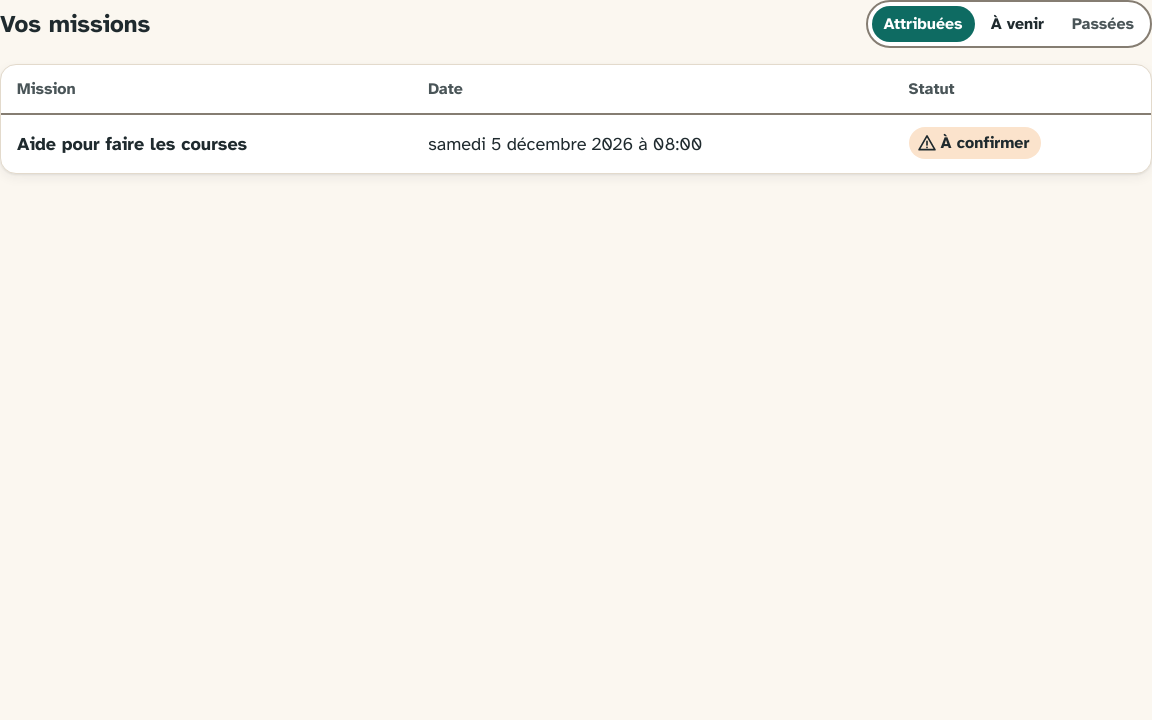
PublishedMissionList › confirms a mission once its slot is over
This screenshot has width=1152, height=720.
expect the table shows "À confirmer": met, box [941,133,1029,153]
Step 1. Click the row that starts with "Aide pour faire les courses" → click(576, 144), box [1,115,1151,173]
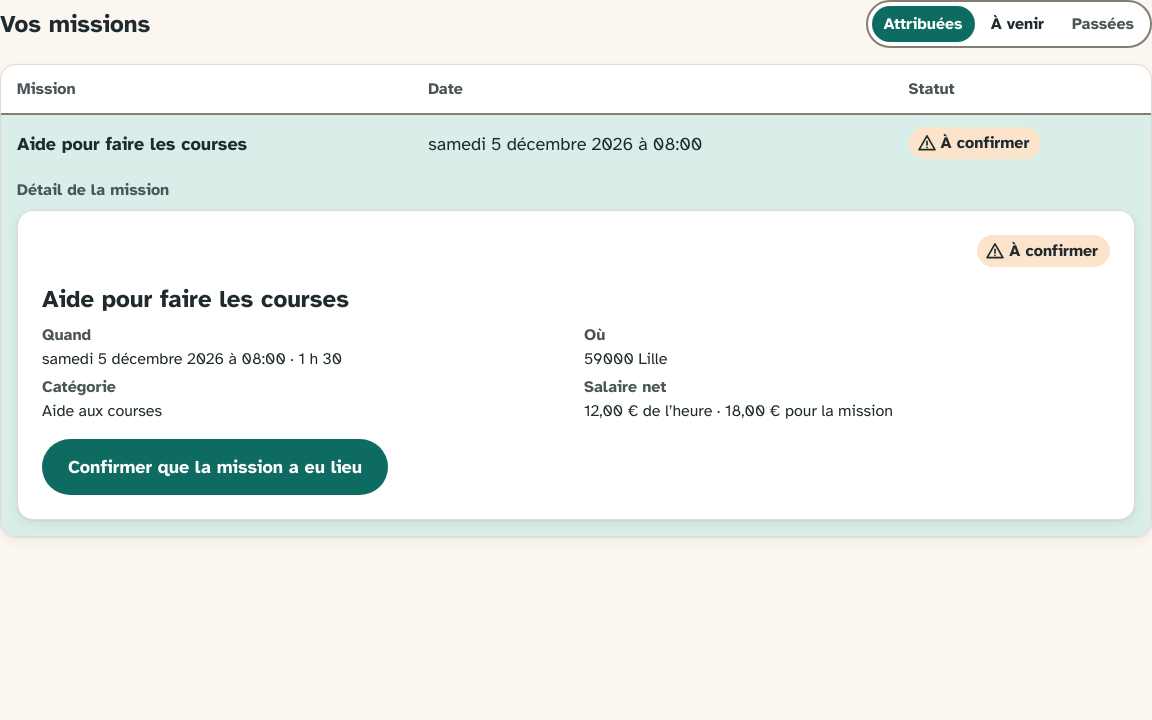
Step 2. Click the button "Confirmer que la mission a eu lieu" → click(215, 467), box [42,439,388,495]
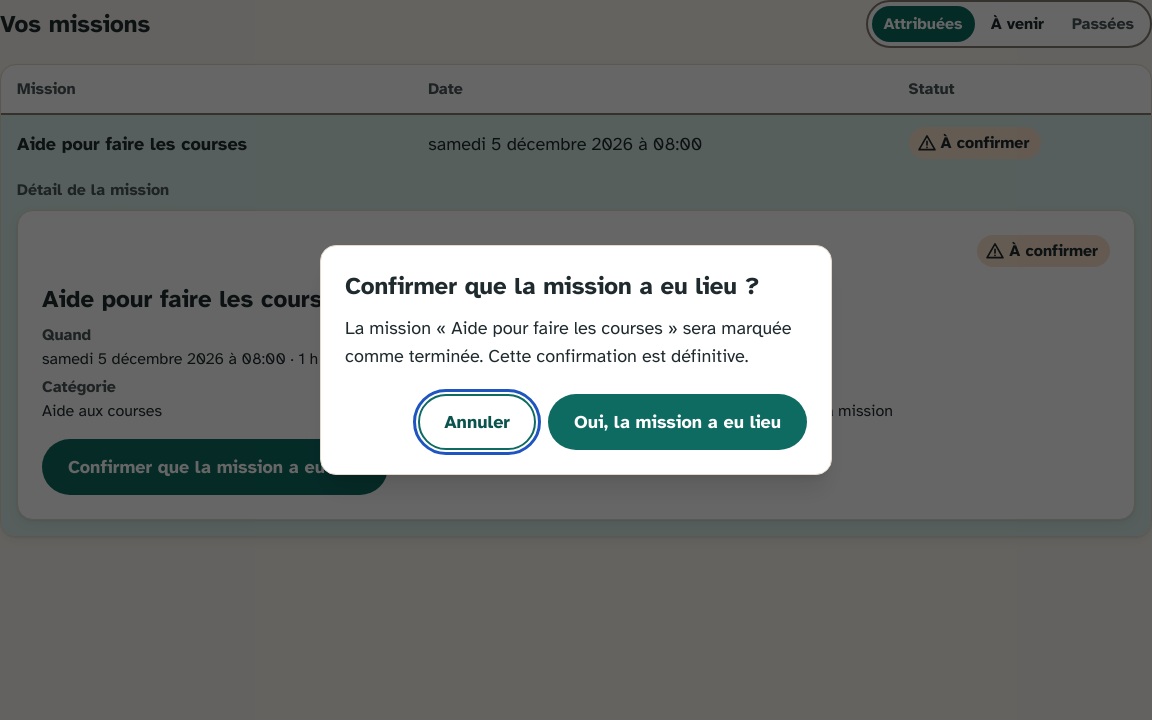
Step 3. Click the button "Oui, la mission a eu lieu" → click(678, 422), box [548,394,807,450]
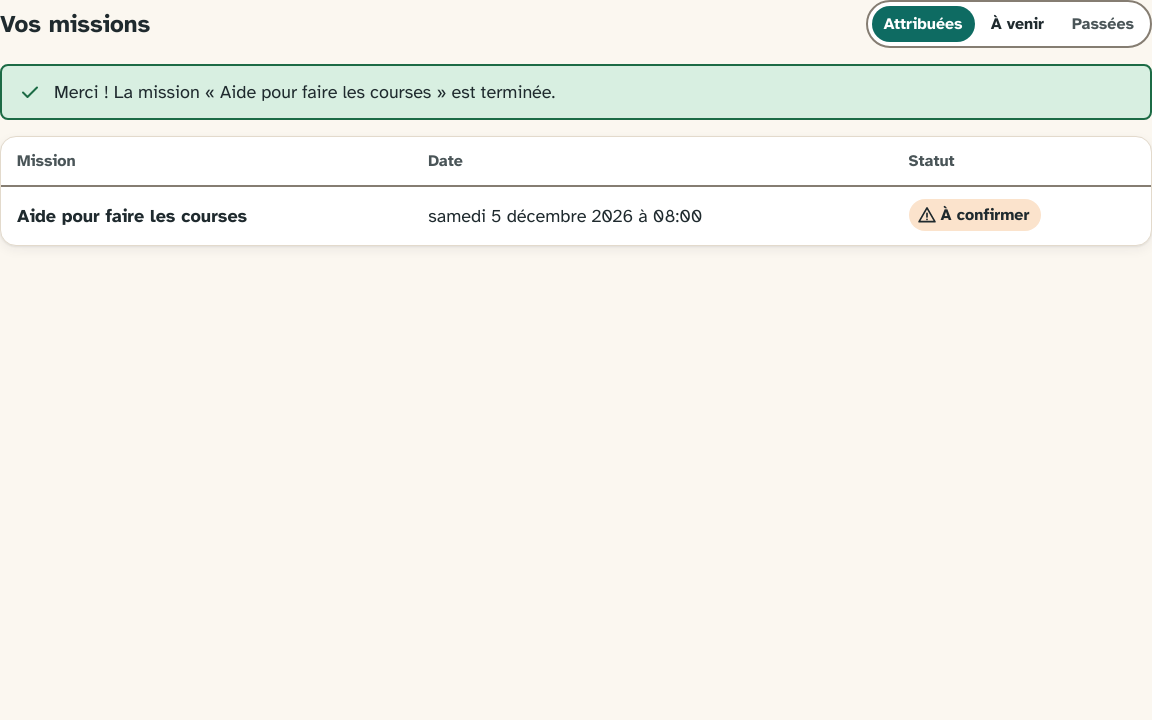
expect the text "est terminée" is shown: met, box [54,81,555,103]
